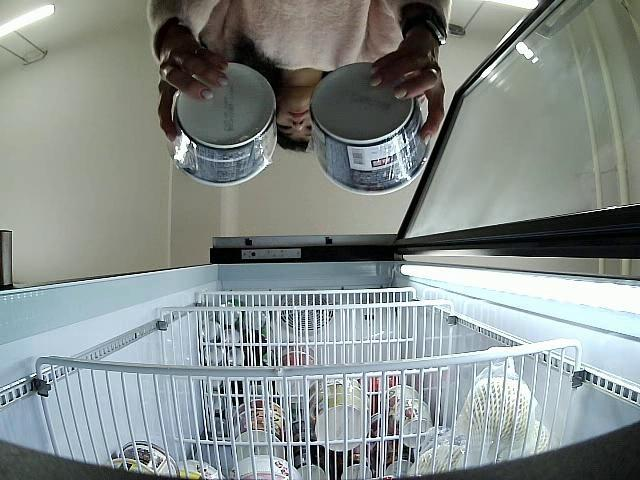07_buldak_L: (309, 63, 430, 196), (168, 64, 278, 186)
